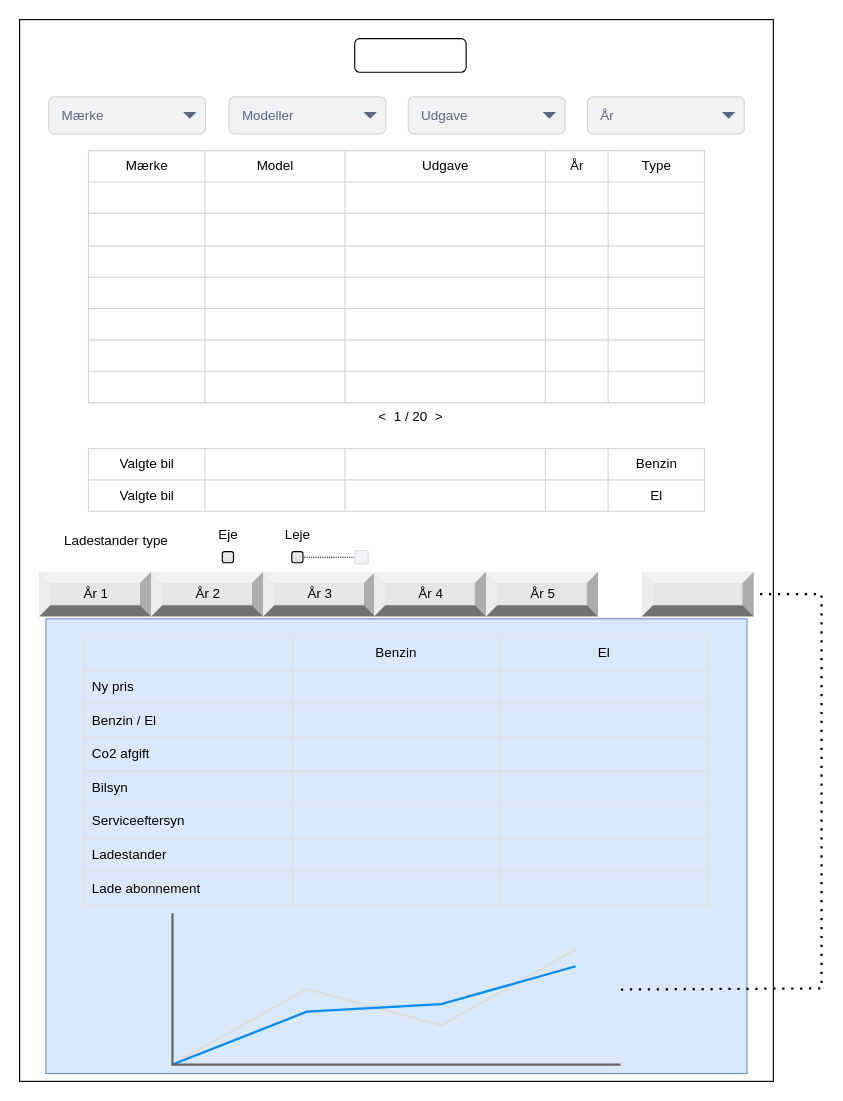
This 843x1101 diagram has some shape labels left out. Here are the shapes that lost their labels. From the top down, the centre of each, then its label:
At point 410,55: "KM om året".
At point 361,556: "Har abonnoment?".
At point 697,593: "Samlet".
